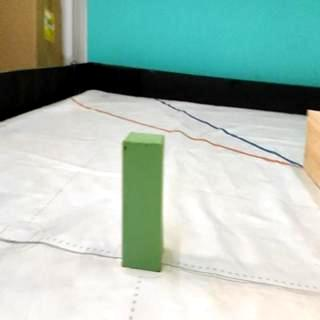greenbox: (120, 132, 166, 272)
